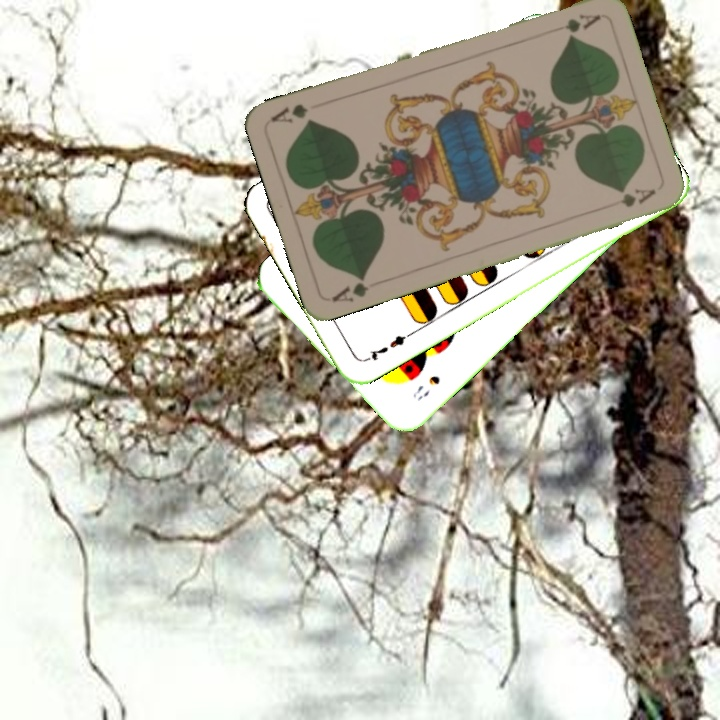E7: (360, 329, 414, 364)
GA: (327, 271, 372, 305), (561, 10, 603, 35)
S8: (408, 371, 443, 403)
